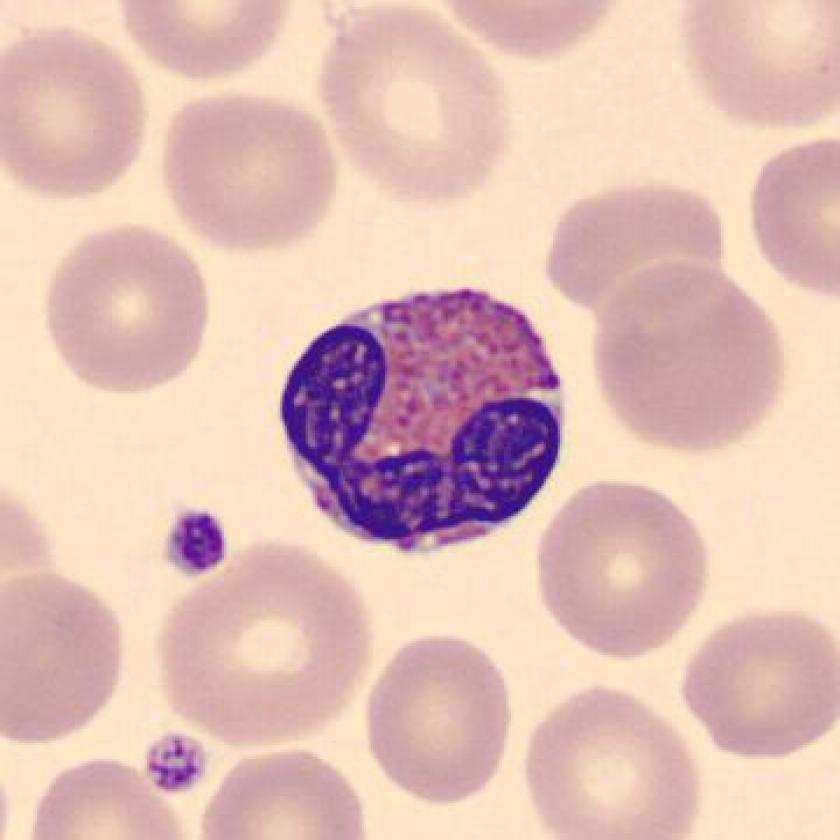eosinophil: (262, 272, 580, 566)
